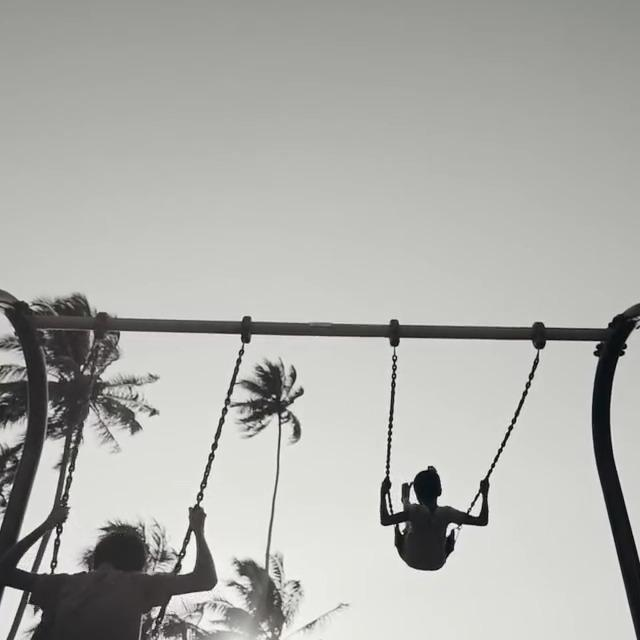NO-Hardhat: (96, 524, 146, 551), (413, 465, 447, 489)
NO-Safety Vest: (24, 570, 135, 640), (405, 502, 453, 567)
Person: (0, 497, 219, 640), (378, 464, 489, 568)
